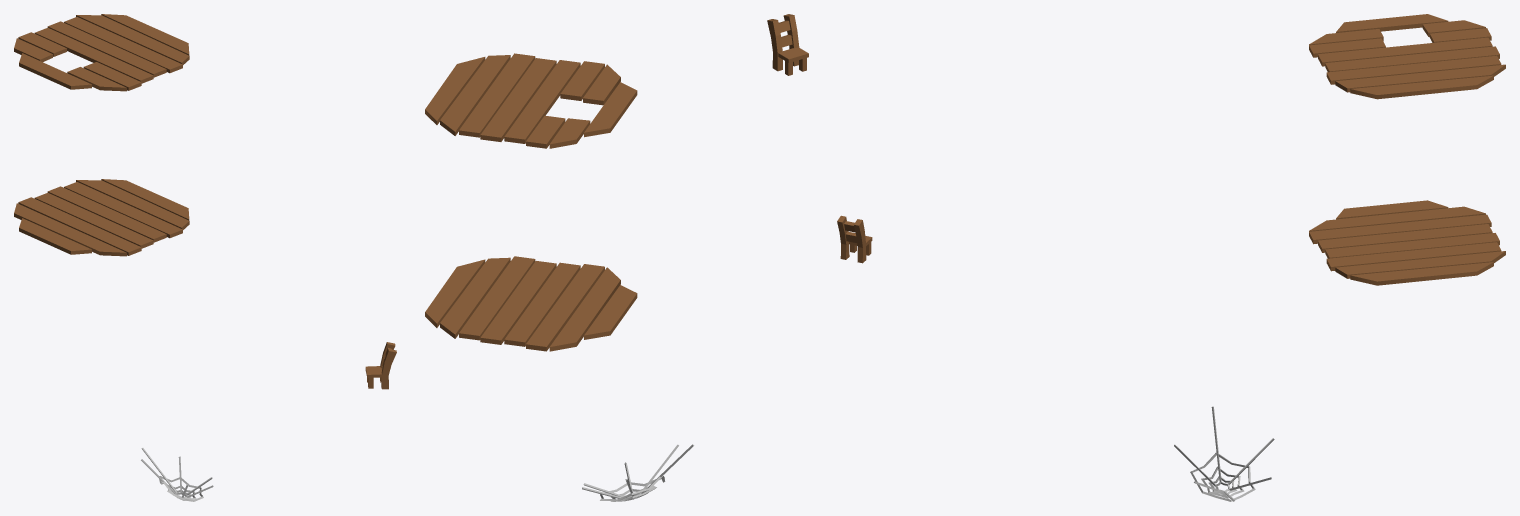
The picture shows the model from 3 angles, left to right: view 1: azimuth 30°, elevation 25°; view 2: azimuth 150°, elevation 25°; view 3: azimuth 270°, elevation 25°; orthographic projection. The views are drawn at different scales.
Visible parts, largest first — view 1: Plane247_brown_0, Plane246_brown_0, Line1514_grey_0, Box604_brown_0; view 2: Plane247_brown_0, Plane246_brown_0, Box604_brown_0, Line1514_grey_0; view 3: Plane247_brown_0, Plane246_brown_0, Line1514_grey_0, Box604_brown_0.
Boxes of the visible parts, x1=… form: Plane247_brown_0: x1=14, y1=179, x2=189, y2=256; Plane246_brown_0: x1=14, y1=14, x2=189, y2=91; Line1514_grey_0: x1=141, y1=448, x2=213, y2=501; Box604_brown_0: x1=365, y1=342, x2=396, y2=389; Plane247_brown_0: x1=425, y1=256, x2=637, y2=351; Plane246_brown_0: x1=425, y1=53, x2=637, y2=148; Box604_brown_0: x1=767, y1=14, x2=808, y2=75; Line1514_grey_0: x1=582, y1=444, x2=694, y2=501; Plane247_brown_0: x1=1309, y1=200, x2=1505, y2=285; Plane246_brown_0: x1=1309, y1=14, x2=1505, y2=99; Line1514_grey_0: x1=1174, y1=406, x2=1274, y2=501; Box604_brown_0: x1=837, y1=215, x2=872, y2=263.
Size of the model in its own units: 335 by 841 by 1167.
